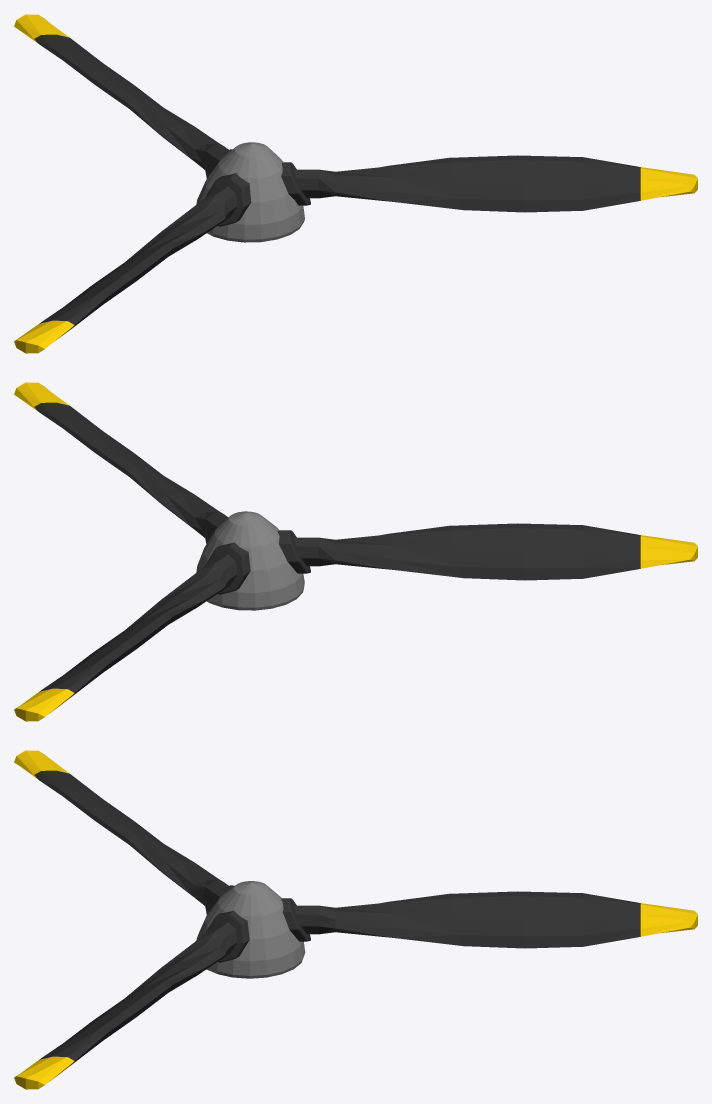
Rendered from Propeller.glb.
3 renders of one model, top to bottom at view 1: azimuth 30°, elevation 25°; view 2: azimuth 150°, elevation 25°; view 3: azimuth 270°, elevation 25°, orthographic.
Visible parts, largest first — view 1: Propeller; view 2: Propeller; view 3: Propeller.
Part boxes in pixels (x1,y1,x2,y2): Propeller: (14, 14, 697, 353); Propeller: (14, 382, 697, 721); Propeller: (14, 750, 697, 1089).
Size of the model in its own units: 175 by 18.78 by 153.
1 material, 1 textured.
